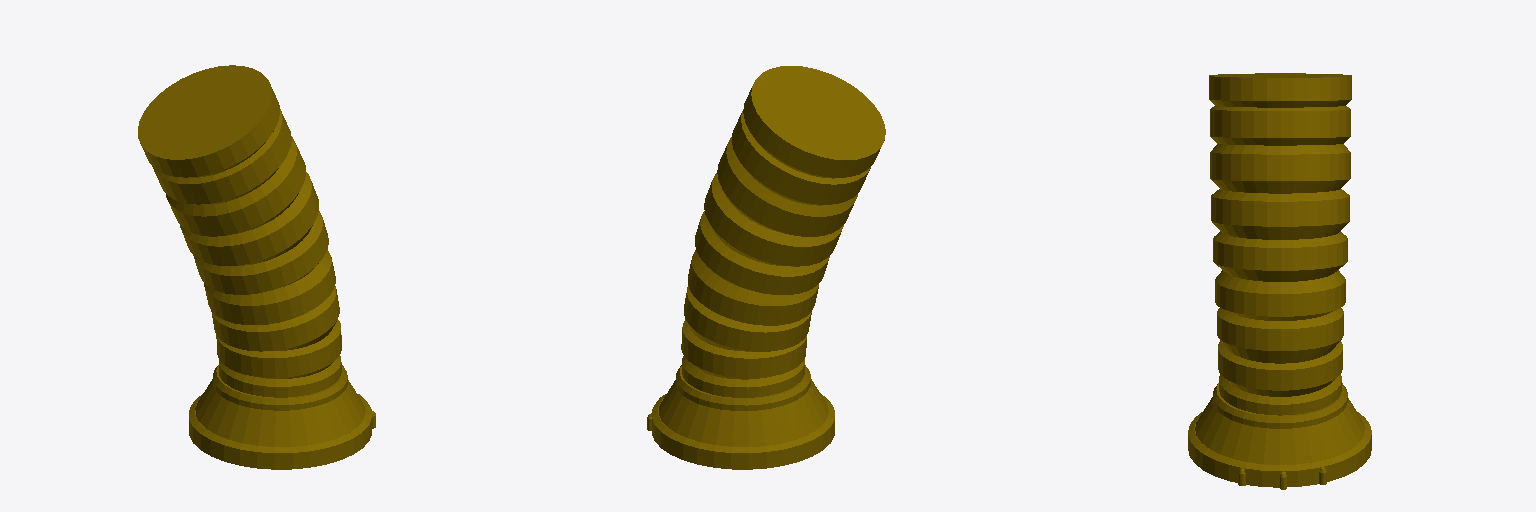
File: goddard_pata01.obj
3 renders of one model, left to right at view 1: azimuth 30°, elevation 25°; view 2: azimuth 150°, elevation 25°; view 3: azimuth 270°, elevation 25°, orthographic.
Visible parts, largest first — view 1: goddard_pata01; view 2: goddard_pata01; view 3: goddard_pata01.
Part boxes in pixels (left/top/right/bottom): goddard_pata01: left=138, top=65, right=375, bottom=469; goddard_pata01: left=647, top=66, right=885, bottom=469; goddard_pata01: left=1188, top=73, right=1371, bottom=489.
Bounding box in the file's own units: 1.39 × 2.24 × 1.03.